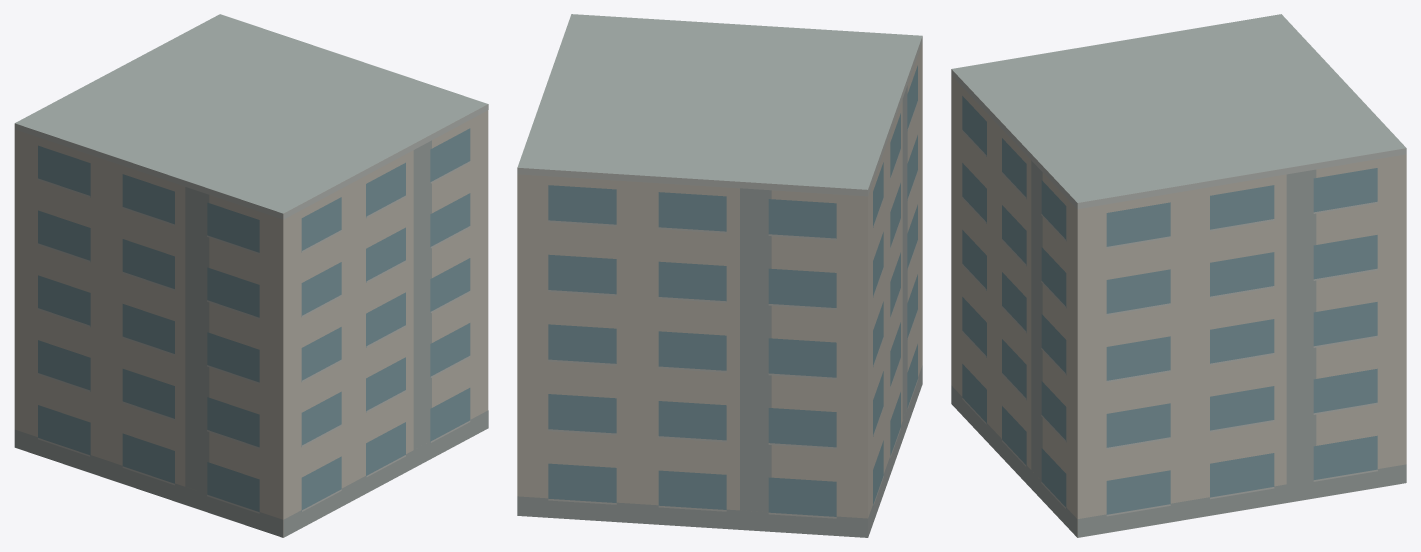
The model's file is survey-upis-32888477.glb.
The picture shows the model from 3 angles, left to right: view 1: azimuth 30°, elevation 25°; view 2: azimuth 150°, elevation 25°; view 3: azimuth 270°, elevation 25°; orthographic projection. The views are drawn at different scales.
Parts seen in each view (by area): view 1: survey-upis-32888477.tmp; view 2: survey-upis-32888477.tmp; view 3: survey-upis-32888477.tmp.
Boxes of the visible parts, x1,y1,x2,y2 form: survey-upis-32888477.tmp: (14,14,488,537); survey-upis-32888477.tmp: (517,14,922,537); survey-upis-32888477.tmp: (951,14,1406,537).
Size of the model in its own units: 15.75 by 13 by 16.03.
